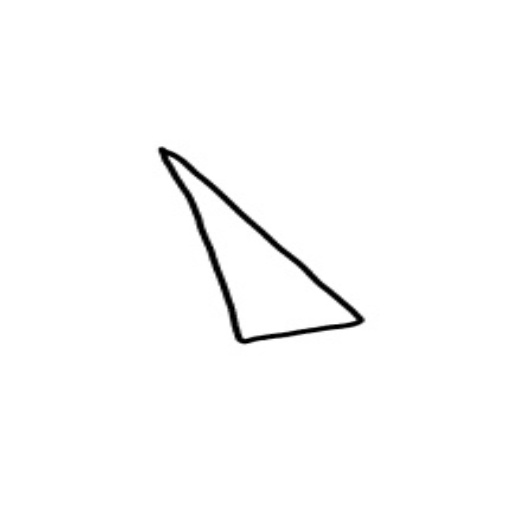triangle: (152, 142, 372, 351)
